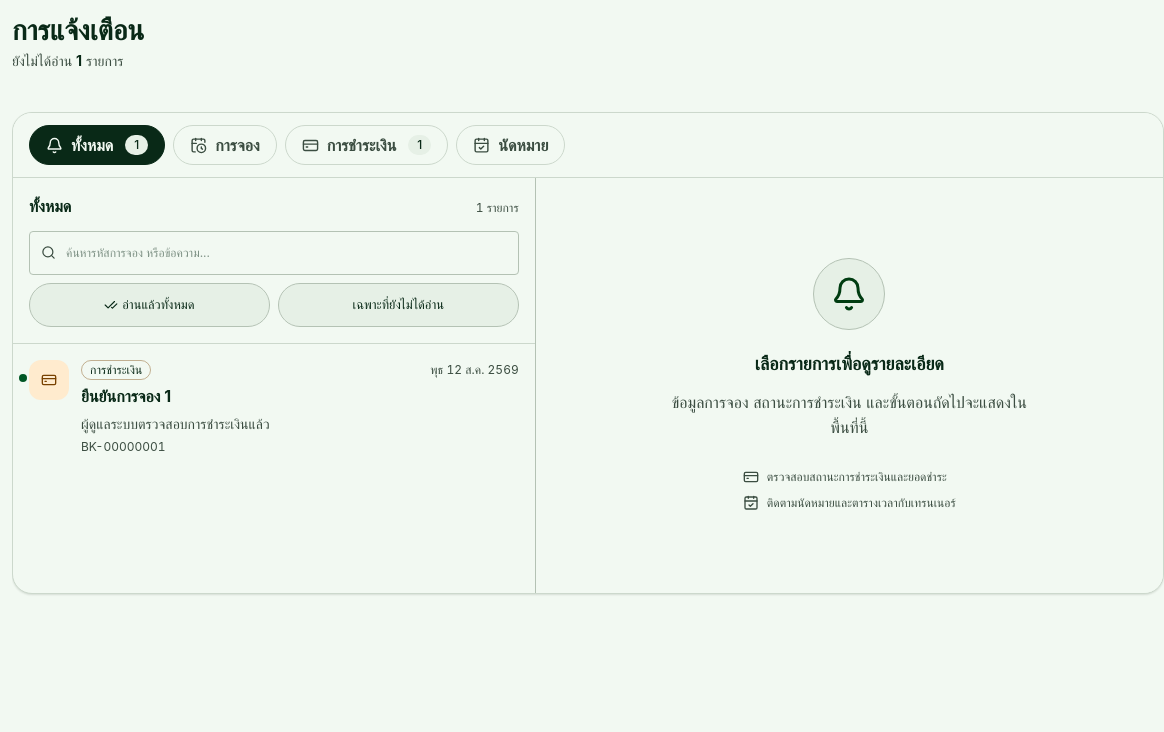
Scenario: NotificationCenter › keeps the detail open when only marking it read fails
What coordinates should you click on to do the following:
click the text "ยืนยันการจอง 1"
I would click on:
 (126, 396)
Its box is [81, 386, 171, 406].
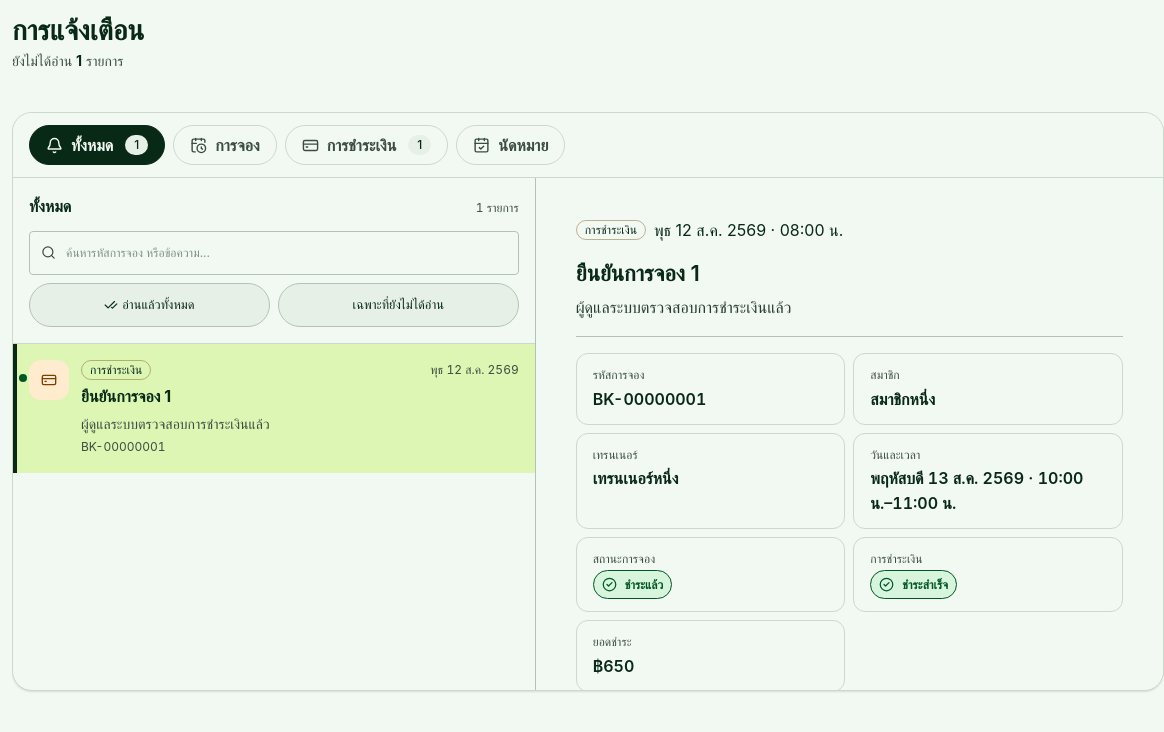
Result: the heading "ยืนยันการจอง 1" is shown at [576, 260, 700, 286]
